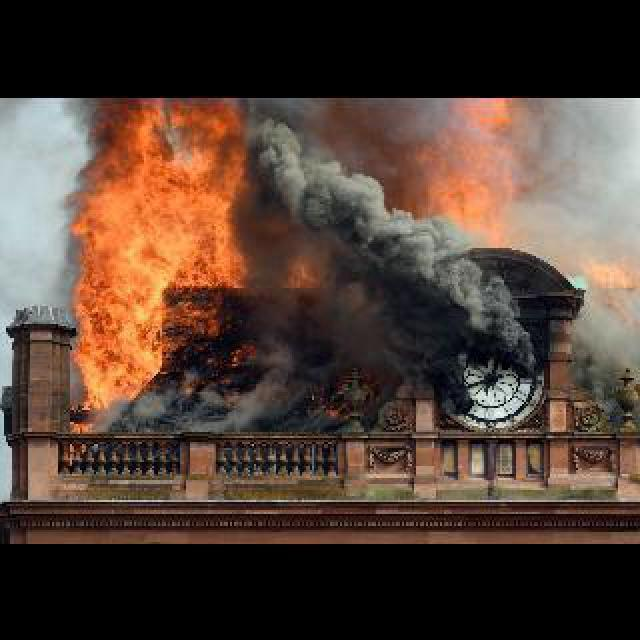Fire: (40, 96, 250, 378), (424, 96, 518, 240), (590, 256, 636, 298)
Smoke: (238, 224, 550, 432), (246, 96, 424, 240), (88, 370, 336, 440)
